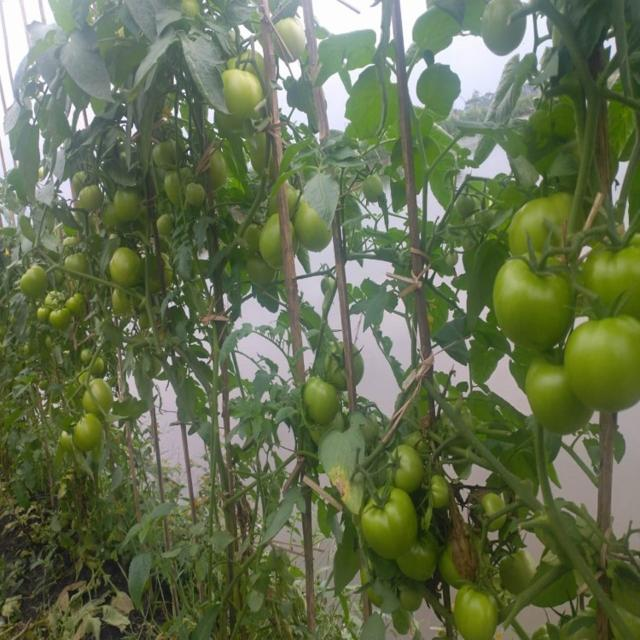tomato: (567, 317, 640, 408), (496, 265, 572, 351), (528, 357, 589, 433), (592, 241, 640, 315), (516, 196, 570, 256), (364, 495, 418, 555), (481, 3, 527, 57), (455, 590, 501, 640), (307, 374, 341, 431), (385, 452, 426, 492), (400, 540, 439, 582), (108, 245, 147, 286), (227, 70, 261, 117), (297, 208, 330, 252), (281, 11, 309, 60), (505, 552, 534, 598), (72, 415, 105, 453), (262, 219, 285, 271), (428, 476, 455, 514), (327, 347, 348, 393), (85, 380, 116, 411), (182, 178, 210, 210), (480, 489, 509, 519), (75, 188, 107, 215), (116, 191, 142, 224), (23, 265, 50, 293), (152, 211, 176, 236), (153, 140, 176, 165), (47, 311, 73, 331), (64, 256, 91, 275), (47, 290, 70, 312), (165, 174, 180, 205), (68, 298, 87, 322), (35, 310, 53, 329), (58, 235, 75, 255), (92, 360, 107, 380), (79, 347, 94, 365), (75, 173, 93, 187)
